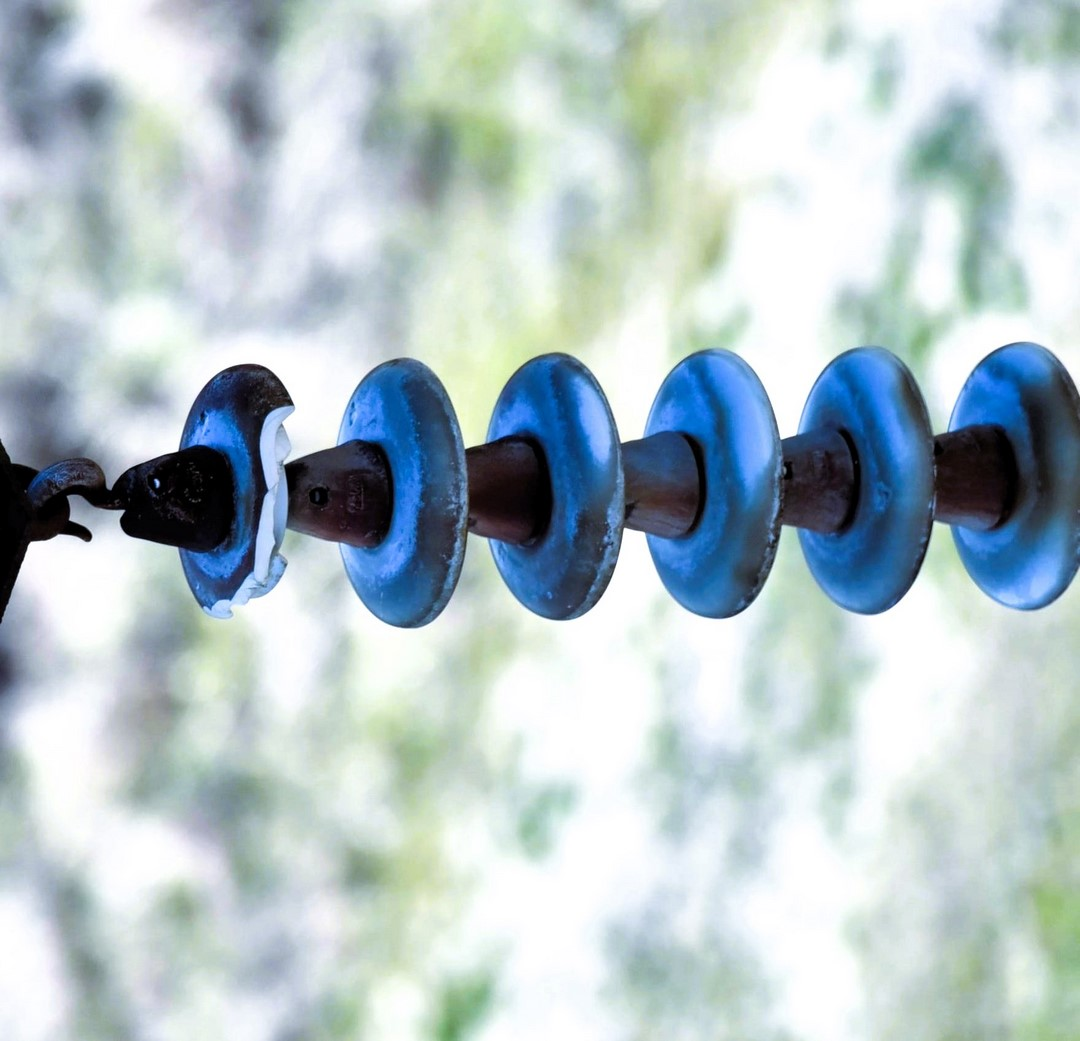insulator breakage: (168, 365, 314, 631)
